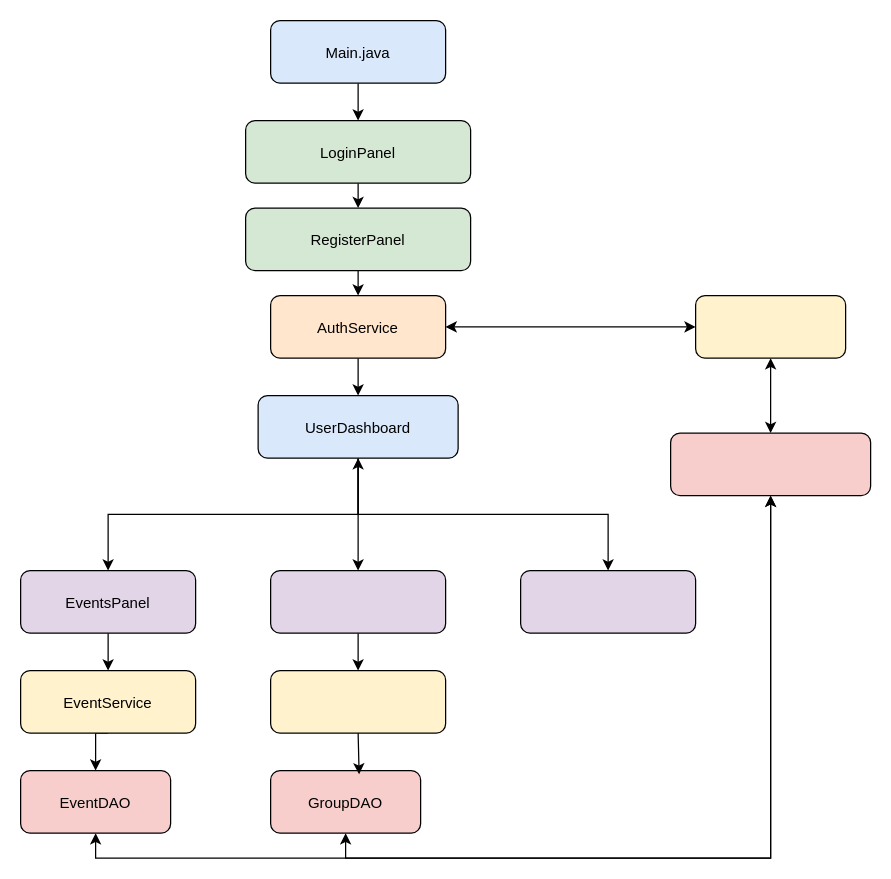
Some shapes in this 891 by 879 pixel diagram are drawn without their labels. Each missing label, with the centre of its shape:
"CalendarPanel" goes at point 607,601.
"DatabaseConnection" goes at point 770,464.
"GroupService" goes at point 357,701.
"GroupsPanel" goes at point 357,601.
"UserDAO" goes at point 770,326.
